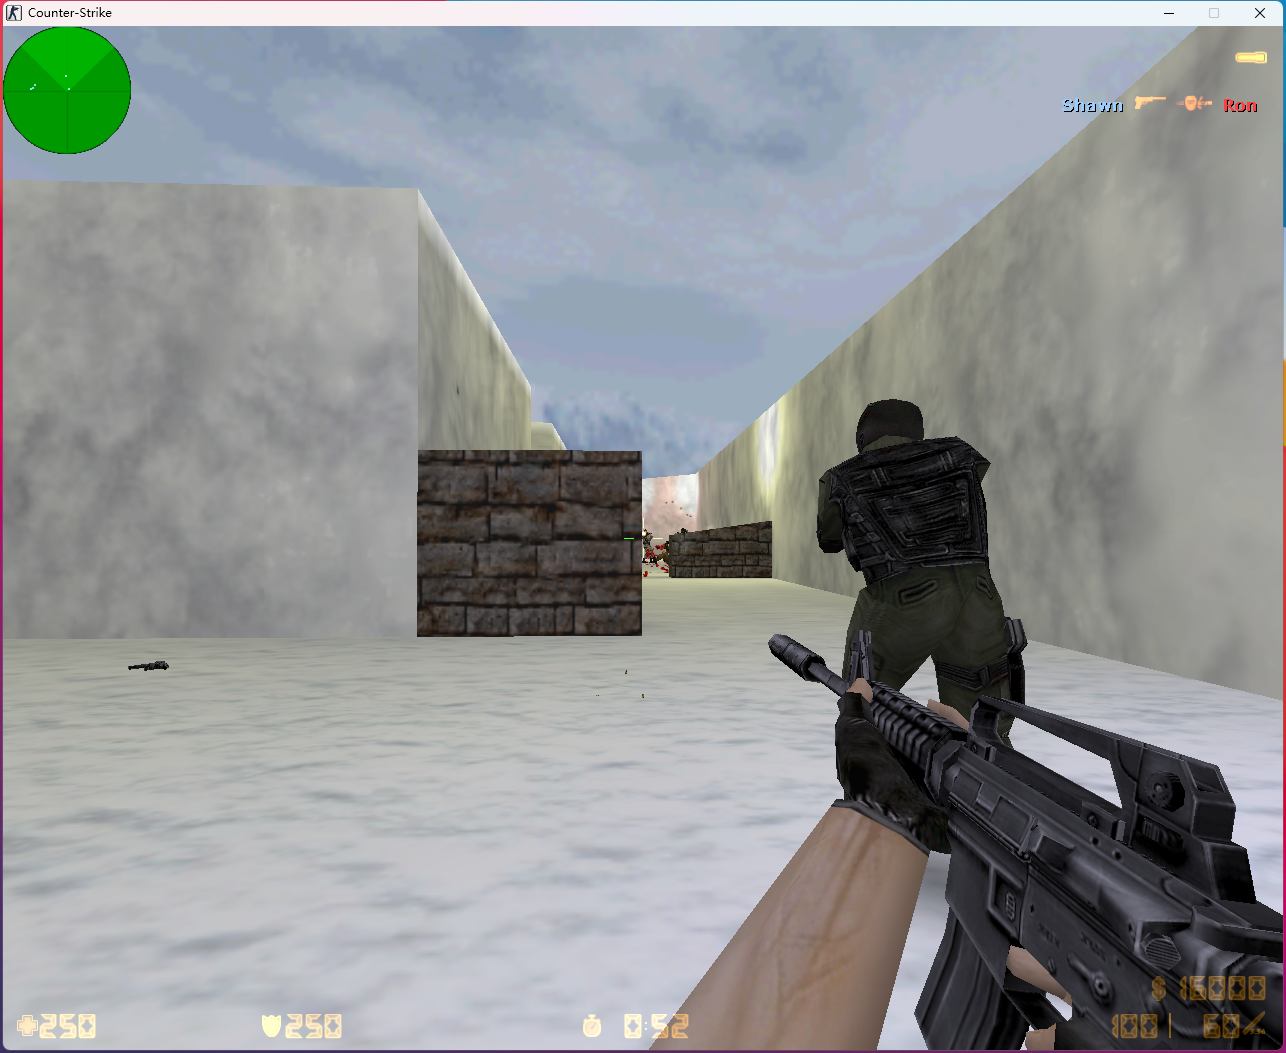C: (799, 393, 1026, 838)
T: (641, 530, 655, 561), (670, 523, 692, 536)
weapon: (125, 657, 173, 674)
